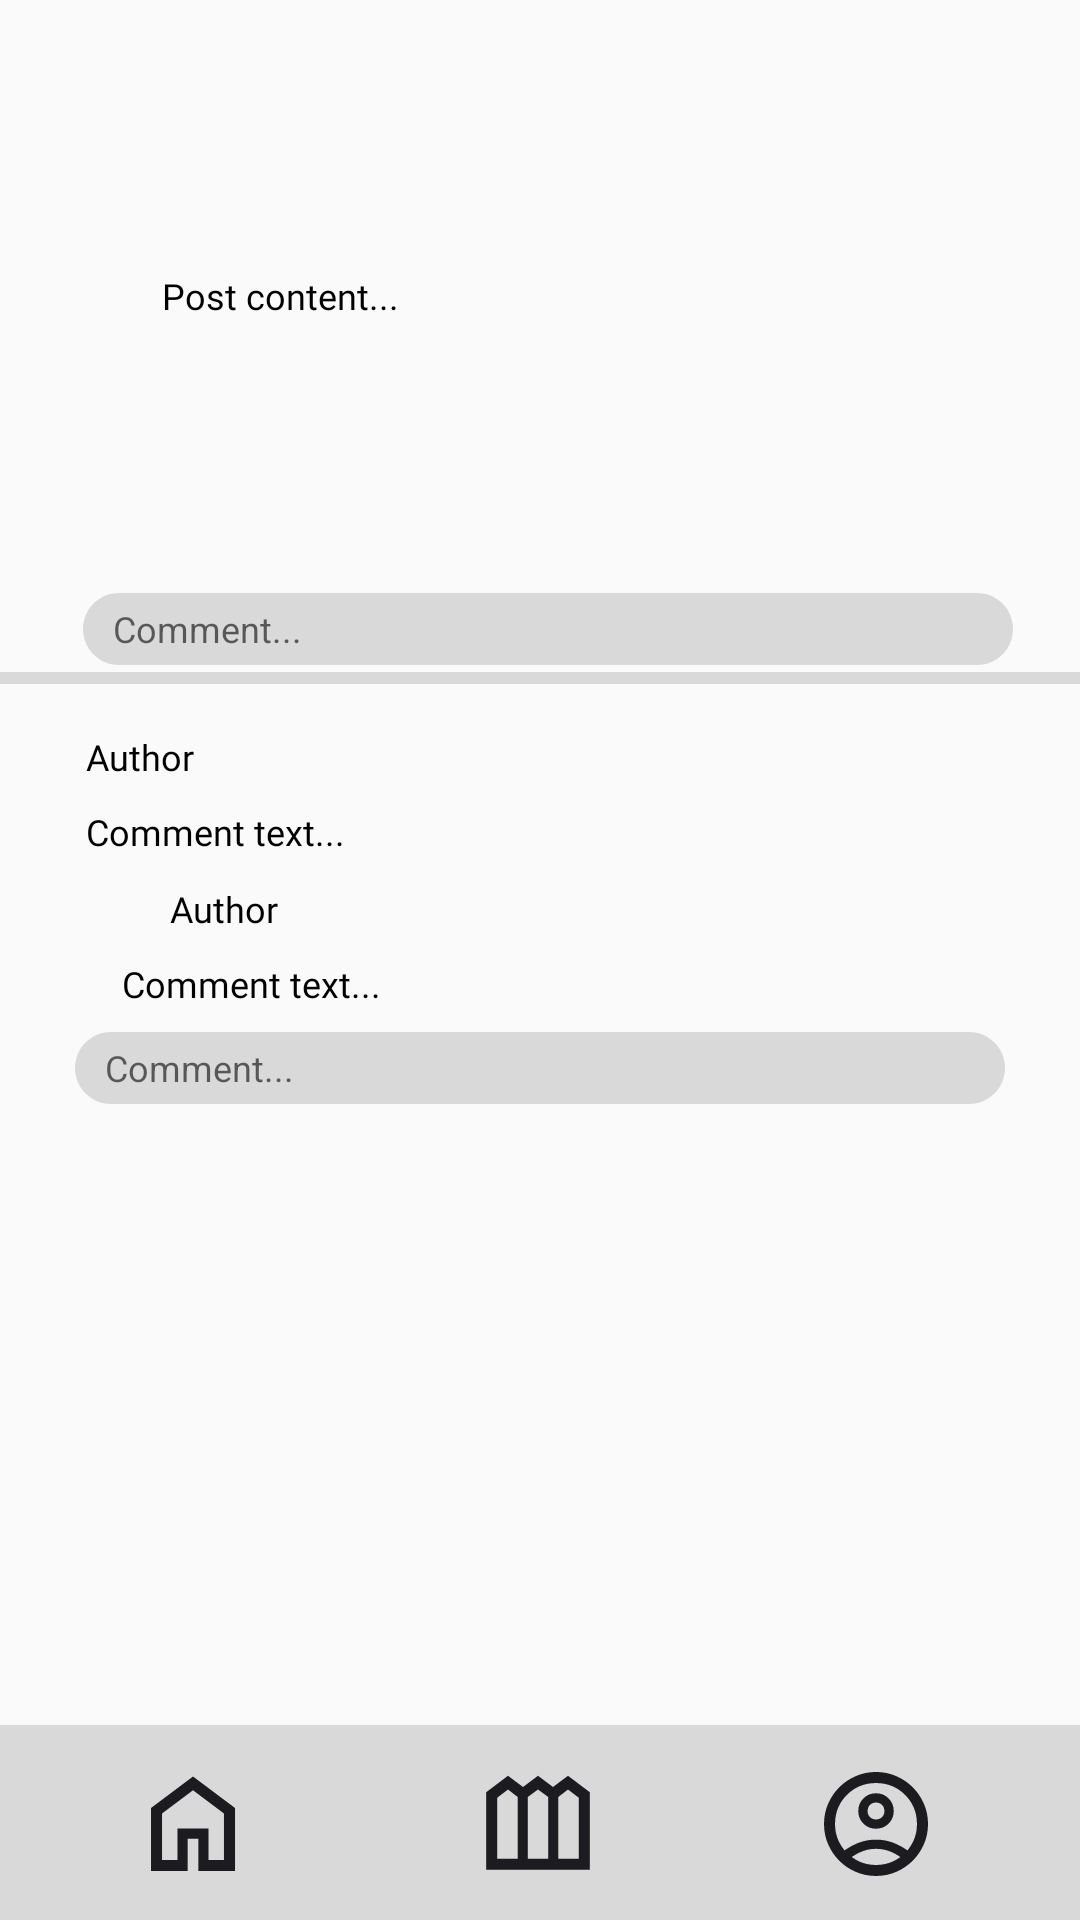

Icons on this 1080 × 1920 Android screen, each with the point to tap as (x,y):
home: (193,1823)
outdoor garden: (538,1823)
